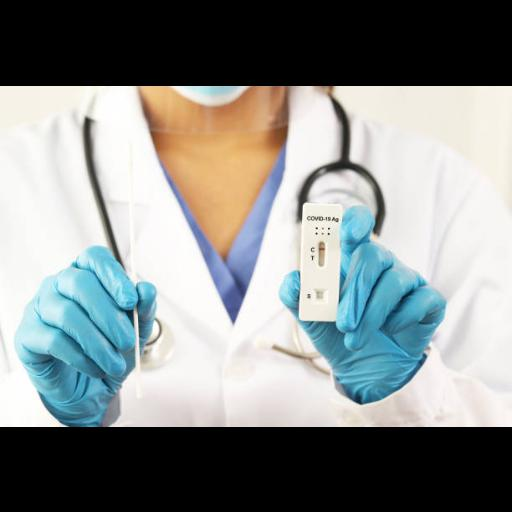Neg: (299, 201, 342, 320)
